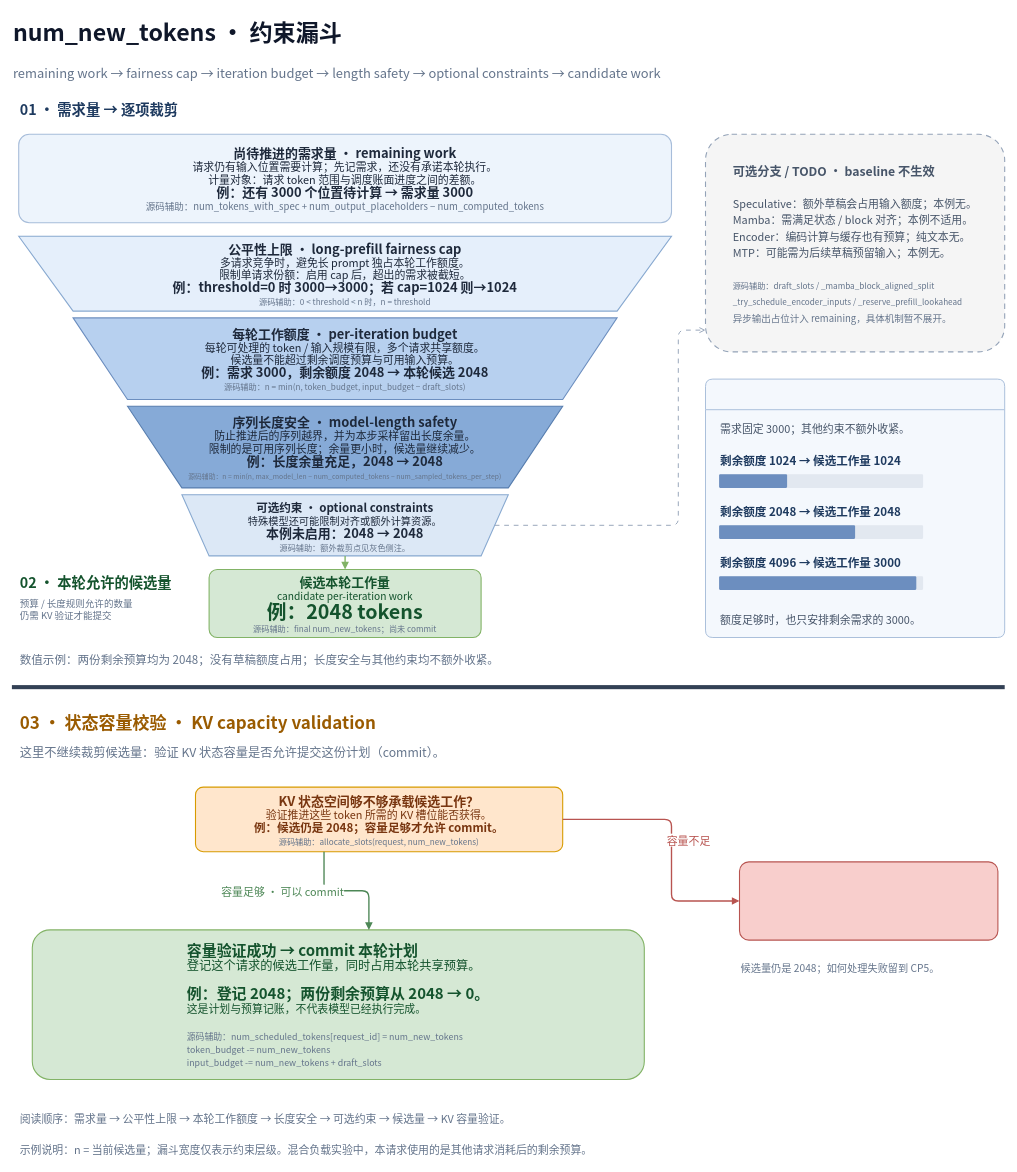
Some shapes in this 1017 by 1172 pixel diagram are drawn without their labels. The shapes that lost their labels are listed below. From the top down, each one's box as (x1, y1, x2, y2) in pixels, then its label:
(705, 378, 1005, 638): 同一需求下，本轮额度改变会怎样？
(739, 861, 998, 940): 容量验证失败 CP5 · Preemption 尚未 commit；后续资源处理不展开。
